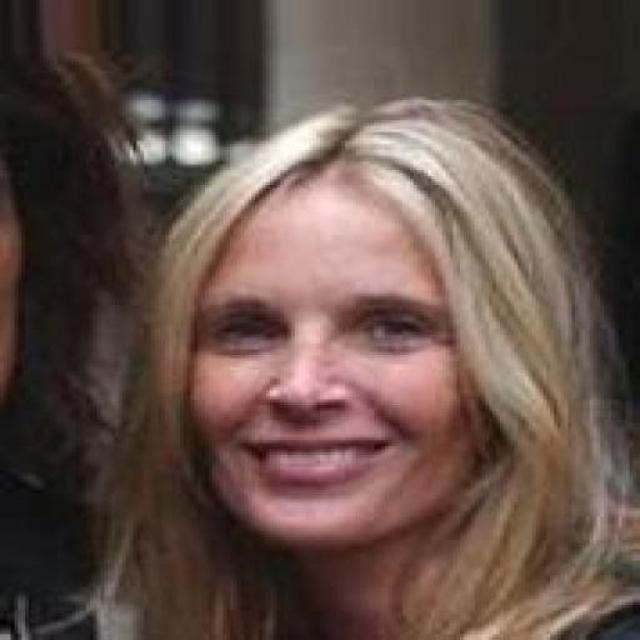bareface: (176, 141, 512, 565)
